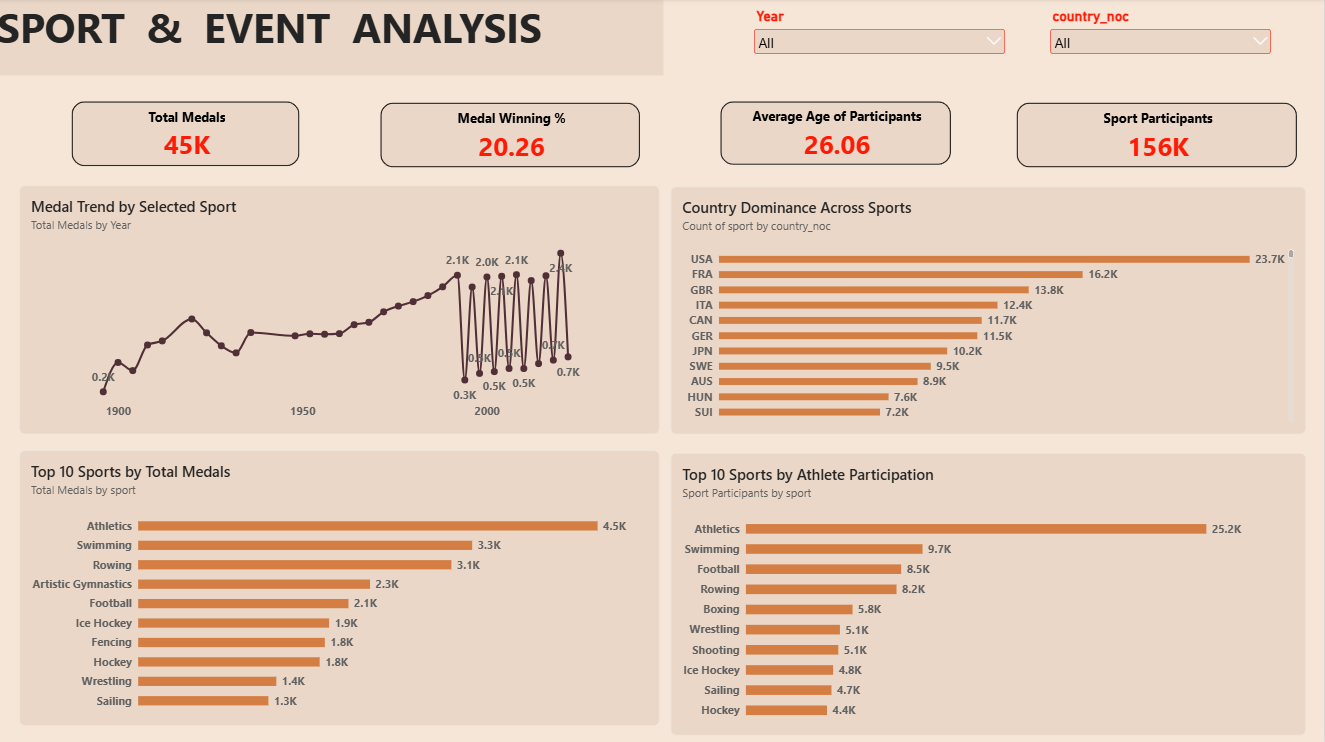

What the dashboard file says about the page in this screenshot:
{"tool":"powerbi","page":{"name":"Sport & Event Analysis 4","canvas":[1920,1080],"ordinal":3},"visuals":[{"type":"barChart","title":"Top 10 Sports by Total Medals","fields":{"Category":["Olympic_Athlete_Event_Results.sport"],"Y":["measure table.Total Medals"]},"box":[32.6,655.1,926.5,398.1],"z":0},{"type":"barChart","title":"Top 10 Sports by Athlete Participation","fields":{"Category":["Olympic_Athlete_Event_Results.sport"],"Y":["measure table.Sport Participants"]},"box":[975.4,658.7,919.3,409],"z":1000},{"type":"lineChart","title":"Medal Trend by Selected Sport","fields":{"Y":["measure table.Total Medals"],"Category":["Calendar.Year"]},"box":[32.6,271.4,926.5,360.1],"z":2000},{"type":"barChart","title":"Country Dominance Across Sports","fields":{"Category":["Olympic_Athlete_Event_Results.country_noc"],"Y":["CountNonNull(Olympic_Athlete_Event_Results.sport)"]},"box":[975.4,273.3,919.3,358.3],"z":3000},{"type":"cardVisual","fields":{"Data":["measure table.Total Medals"]},"box":[95.9,137.5,354,118],"z":4000},{"type":"cardVisual","fields":{"Data":["measure table.Sport Participants"]},"box":[1464,139.3,430,118],"z":6000},{"type":"cardVisual","fields":{"Data":["measure table.Medal Winning %"]},"box":[542.9,139.3,400,118],"z":7000},{"type":"cardVisual","fields":{"Data":["measure table.Average Age of Participants"]},"box":[1035.1,137.5,358,116],"z":8000},{"type":"slicer","fields":{"Values":["Calendar.Year"]},"box":[1091.2,14.5,372.8,70.6],"z":9000},{"type":"slicer","fields":{"Values":["Olympic_Athlete_Event_Results.country_noc"]},"box":[1520.1,14.5,329.4,97.7],"z":10000},{"type":"textbox","box":[0,1.8,964.5,110.4],"z":11000}]}

Visuals, with their boxes in screenshot pixels (x1, y1, x2, y2), scaled from the page's 1920x1080 canvas onto the 1325x742 screenshot:
"Top 10 Sports by Total Medals" barChart: Rect(22, 450, 662, 724)
"Top 10 Sports by Athlete Participation" barChart: Rect(673, 453, 1308, 734)
"Medal Trend by Selected Sport" lineChart: Rect(22, 186, 662, 434)
"Country Dominance Across Sports" barChart: Rect(673, 188, 1308, 434)
cardVisual - measure table.Total Medals: Rect(66, 94, 310, 176)
cardVisual - measure table.Sport Participants: Rect(1010, 96, 1307, 177)
cardVisual - measure table.Medal Winning %: Rect(375, 96, 651, 177)
cardVisual - measure table.Average Age of Participants: Rect(714, 94, 961, 174)
slicer - Calendar.Year: Rect(753, 10, 1010, 58)
slicer - Olympic_Athlete_Event_Results.country_noc: Rect(1049, 10, 1276, 77)
textbox: Rect(0, 1, 666, 77)
